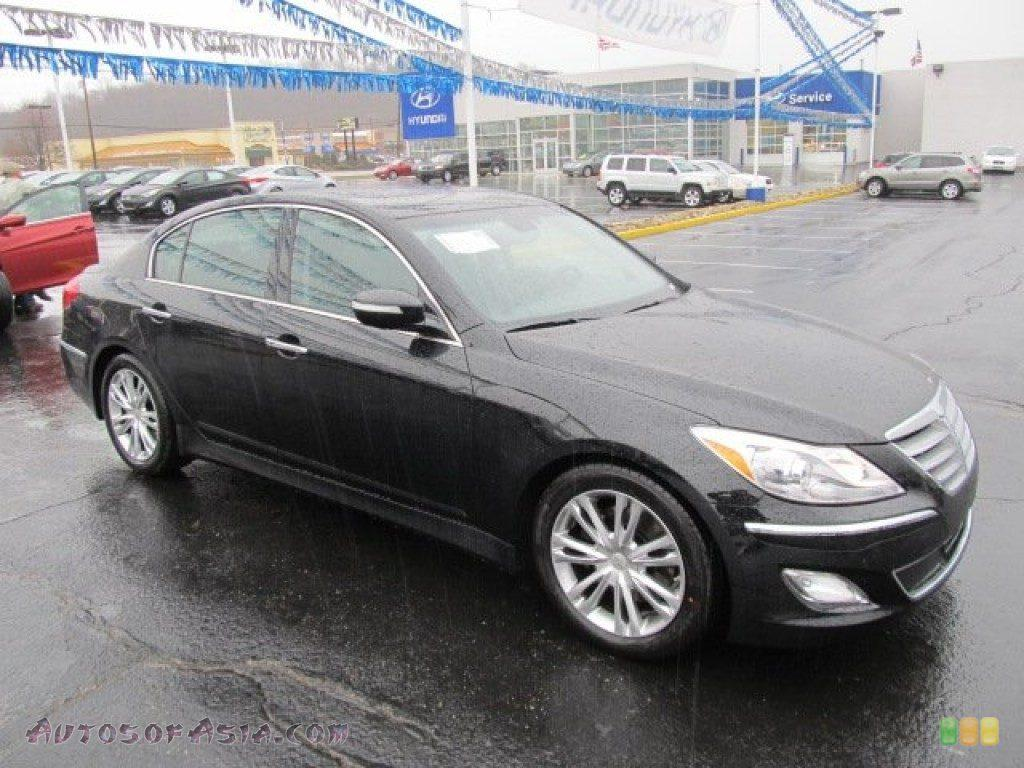Sedan: (57, 180, 979, 660)
